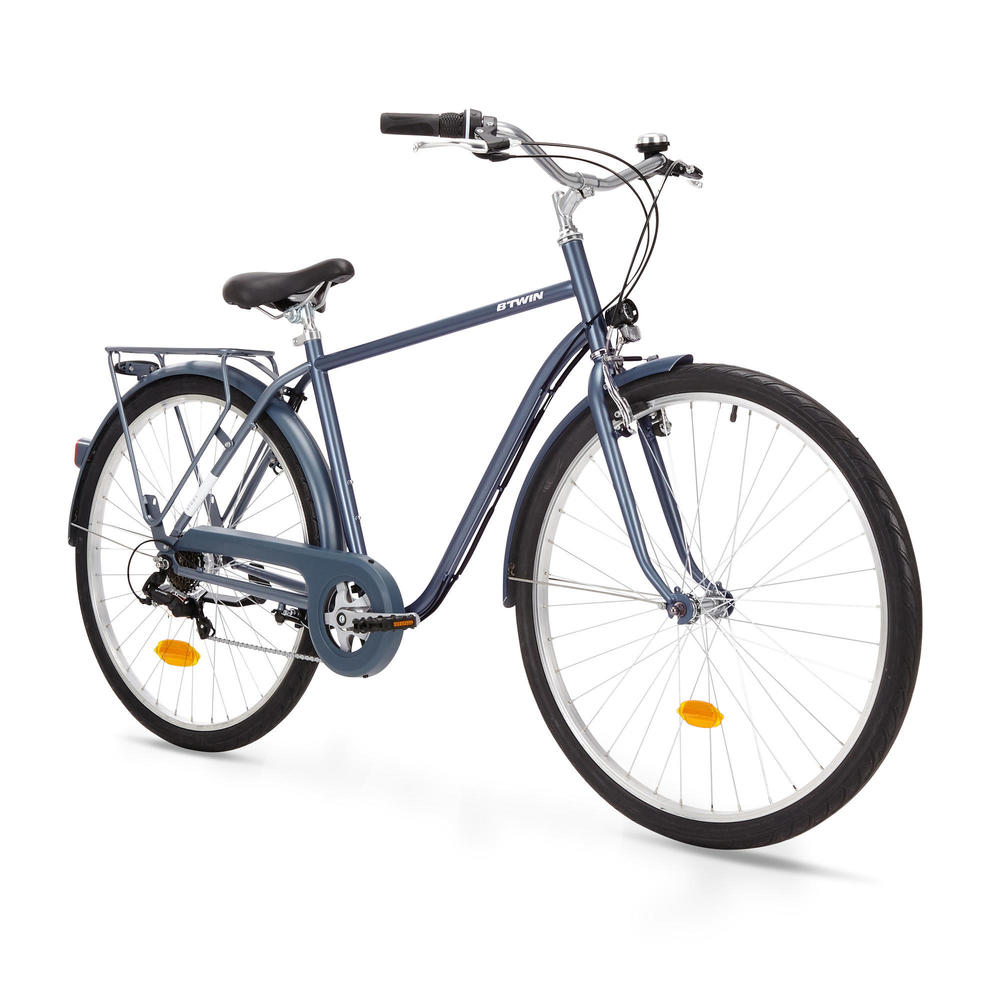UrbanBike: (73, 100, 916, 843)
